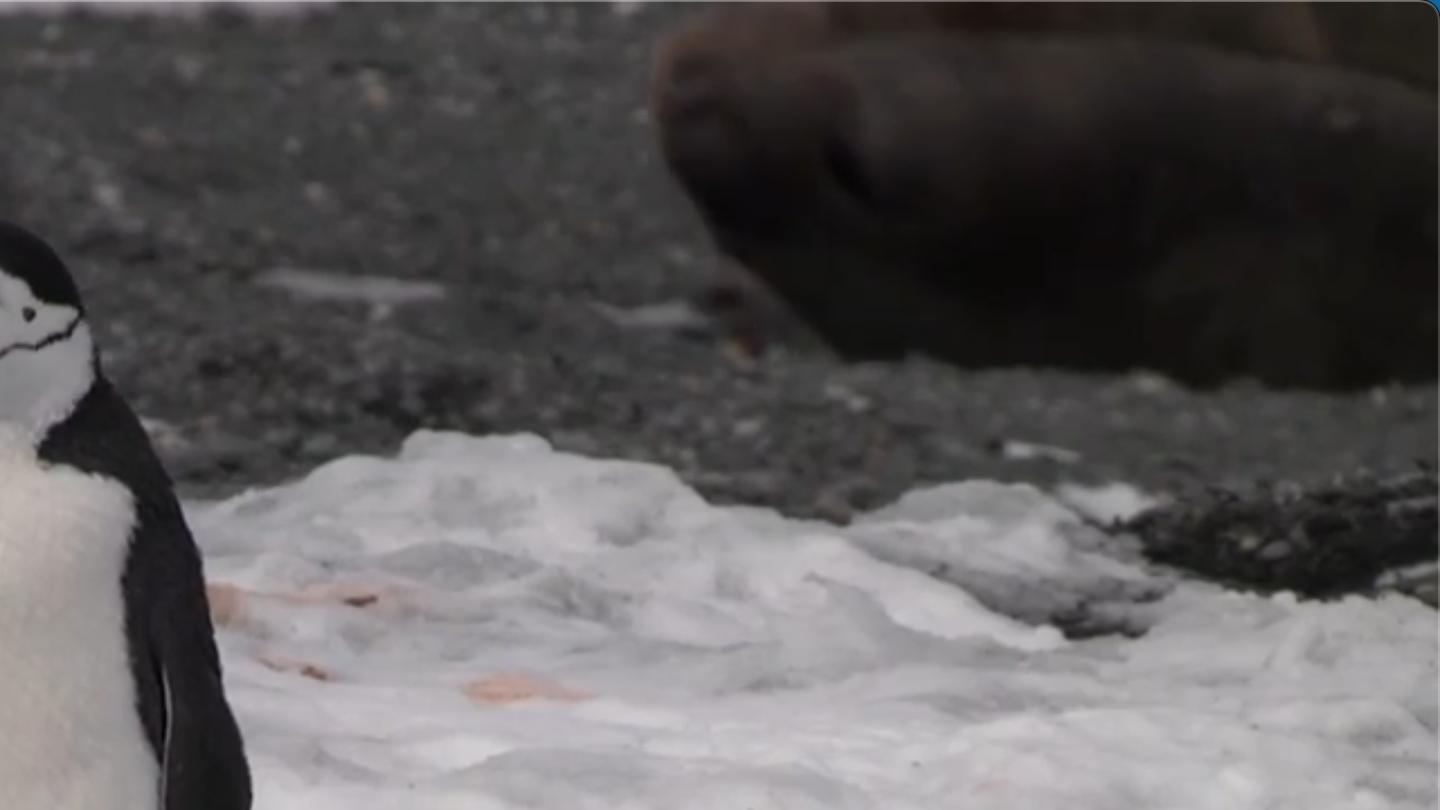Chinstrap Penguin: (0, 199, 237, 683), (0, 687, 591, 810)
